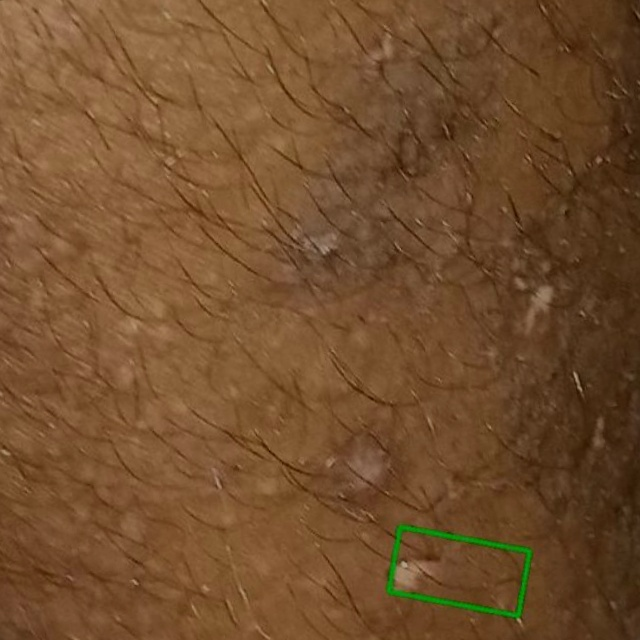Eczema: (387, 527, 529, 617)
